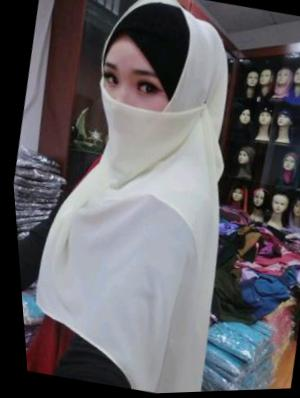WRONG: (87, 51, 190, 151)
